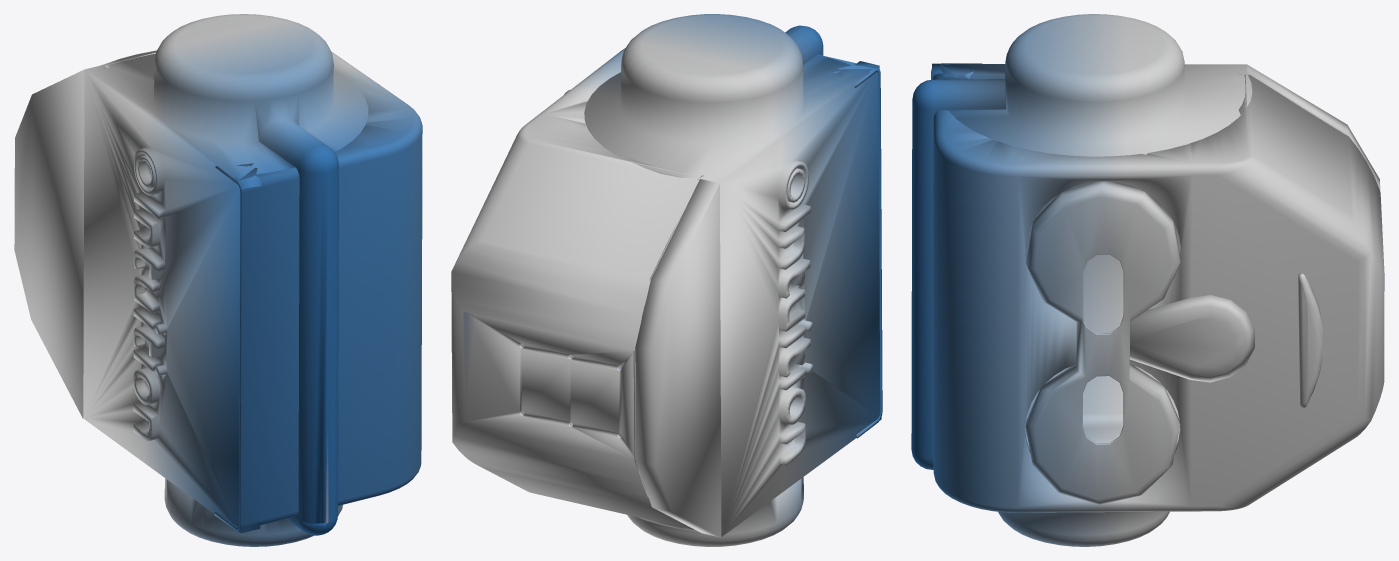
File: blue_head_with_headphone.obj
The picture shows the model from 3 angles, left to right: view 1: azimuth 30°, elevation 25°; view 2: azimuth 150°, elevation 25°; view 3: azimuth 270°, elevation 25°; orthographic projection.
Size of the model in its own units: 4.16 by 7.94 by 7.26.
1 material, 1 textured.
